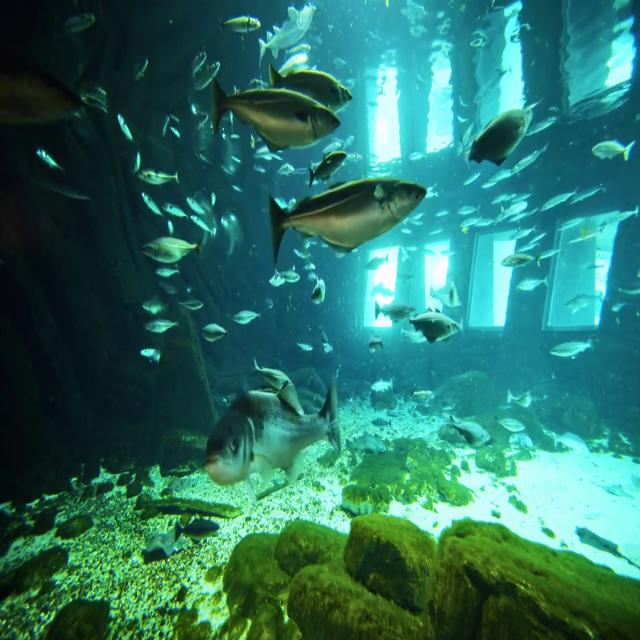fish: (270, 178, 426, 268), (204, 384, 340, 482), (212, 79, 341, 155), (268, 64, 352, 114), (258, 3, 318, 59), (409, 308, 463, 360), (138, 232, 201, 268), (449, 412, 492, 448), (592, 137, 634, 165)
